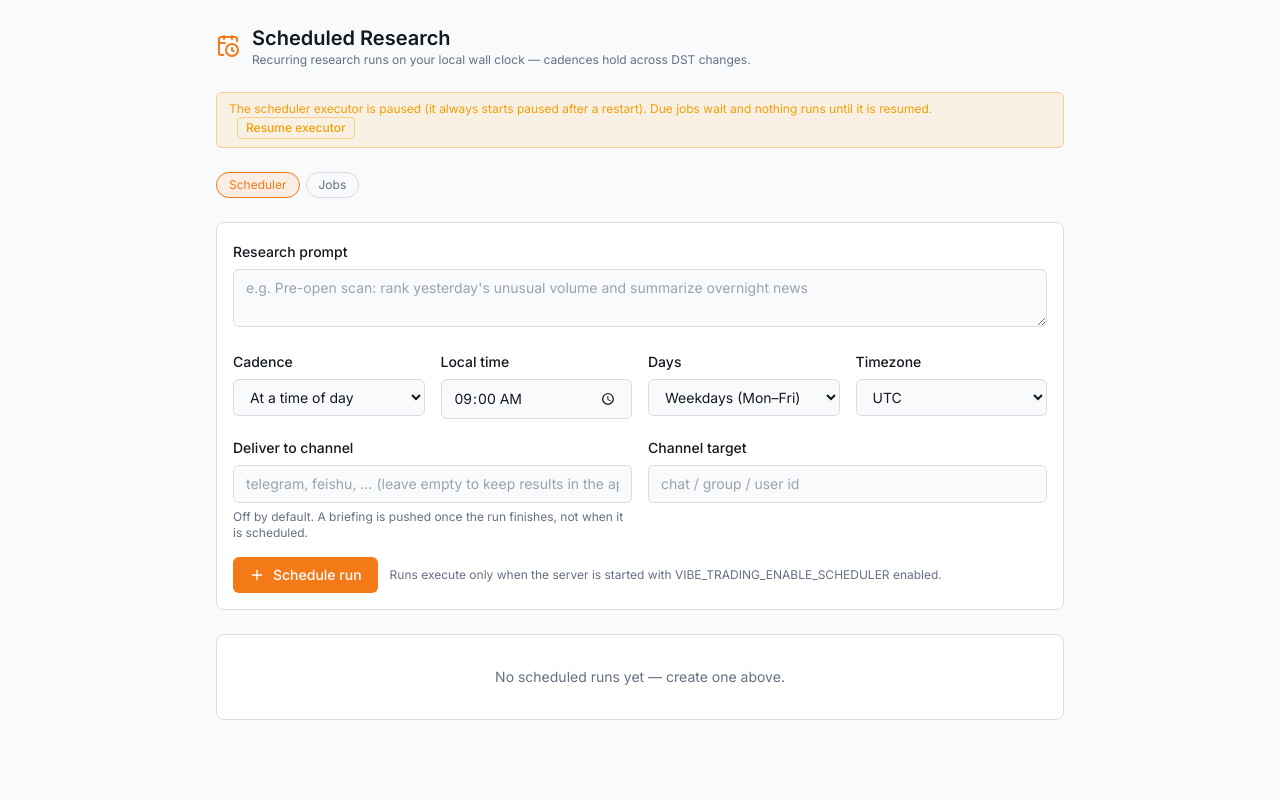
Test: Scheduled page loud states › does not resume the executor when the confirmation is declined
The image size is (1280, 800).
Click the button with test id "executor-resume" at (296, 128), box [237,117,354,139]
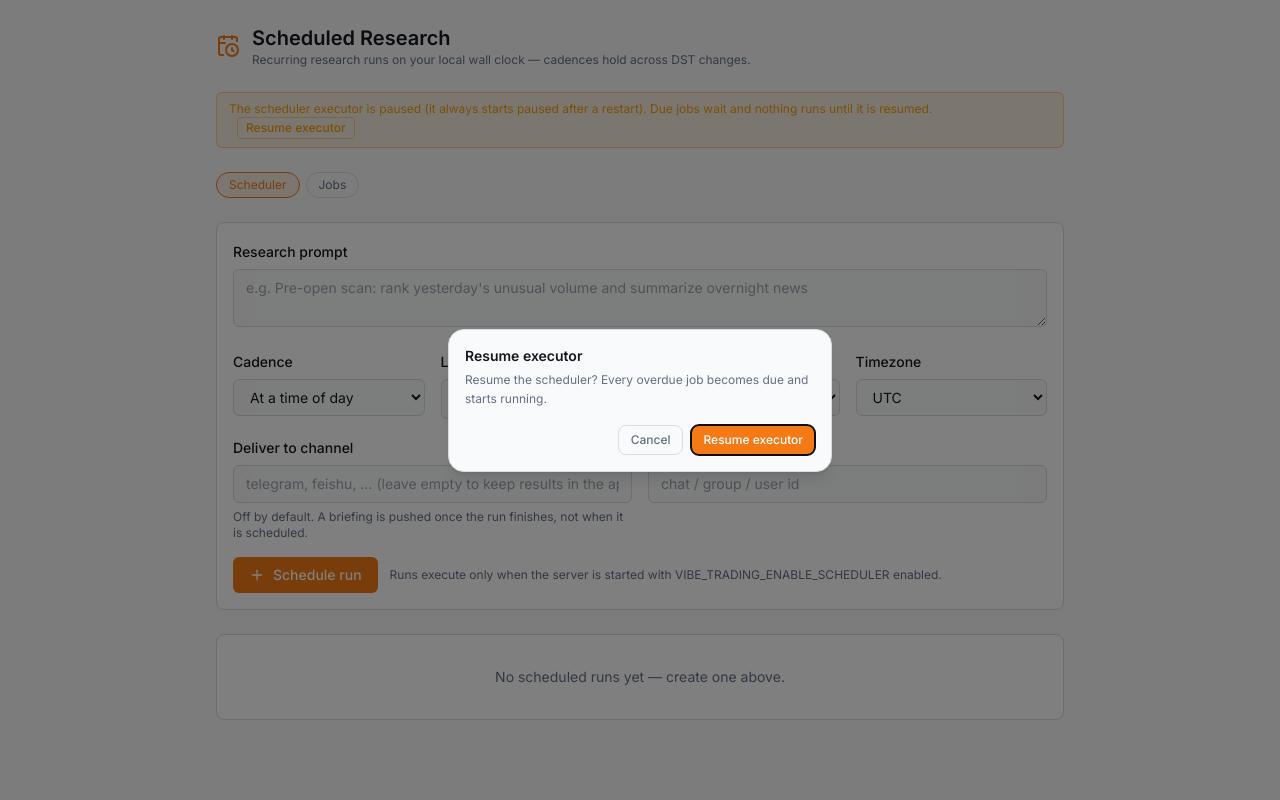
Click the button "Cancel" at (650, 440), box [618,424,683,454]
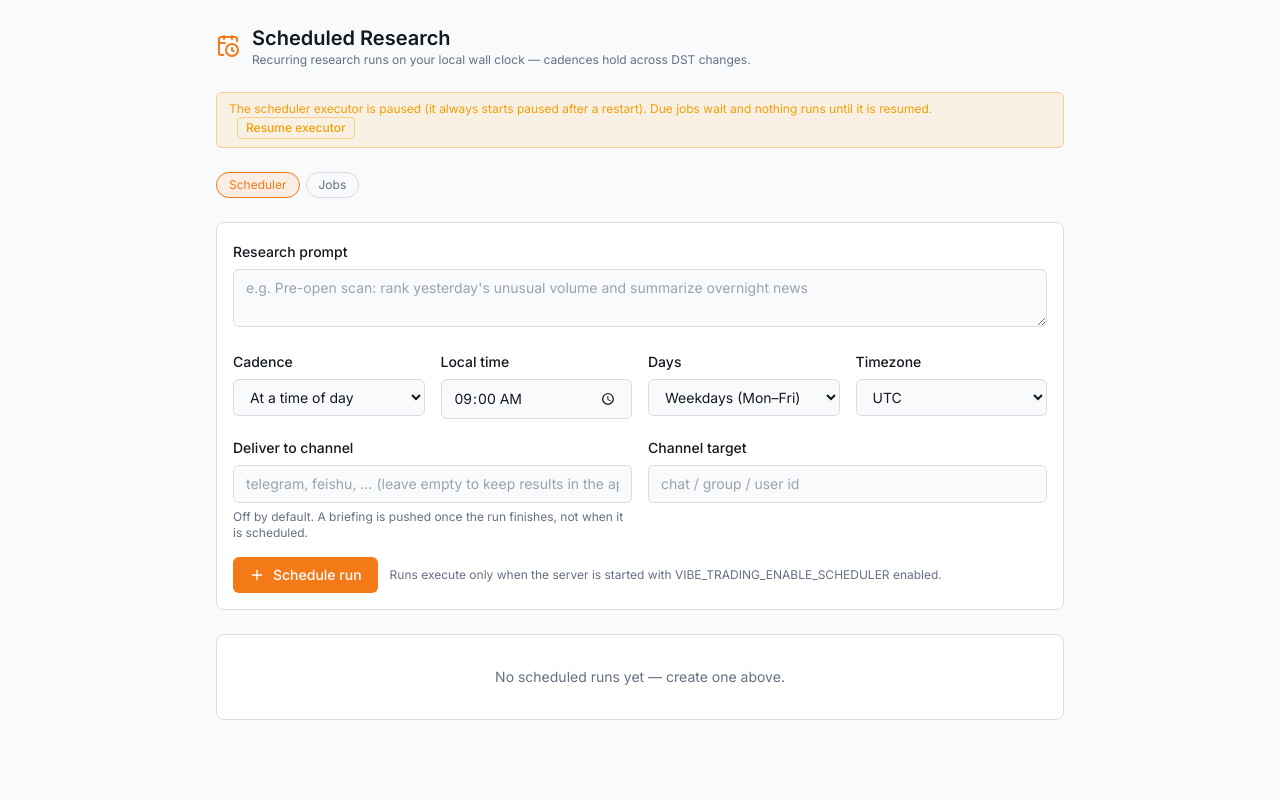
expect the dialog is gone: met
